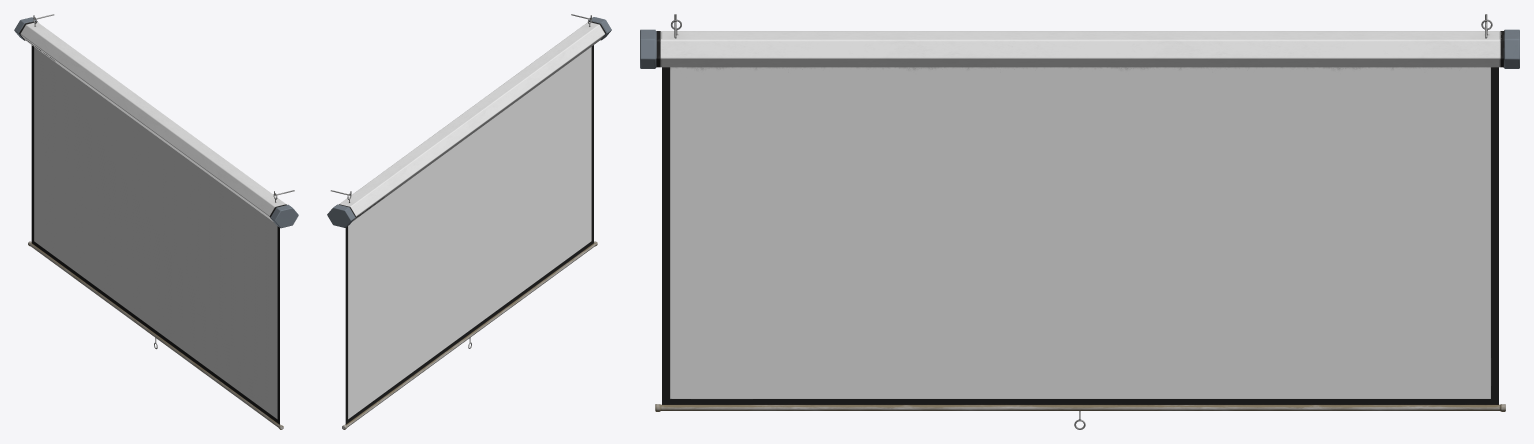
Rendered from projector_screen_7mb.glb.
The picture shows the model from 3 angles, left to right: view 1: azimuth 30°, elevation 25°; view 2: azimuth 150°, elevation 25°; view 3: azimuth 270°, elevation 25°; orthographic projection. The views are drawn at different scales.
Parts seen in each view (by area): view 1: Cylinder_1, Cylinder, Sweep_2_2; view 2: Cylinder_1, Cylinder, Sweep_2_2; view 3: Cylinder_1, Cylinder, Sweep_2_2.
Part boxes in pixels (x1,y1,x2,y2): Cylinder_1: (31, 45, 279, 424); Cylinder: (14, 17, 298, 228); Sweep_2_2: (28, 241, 283, 429); Cylinder_1: (345, 45, 593, 424); Cylinder: (327, 17, 611, 227); Sweep_2_2: (342, 241, 597, 429); Cylinder_1: (662, 67, 1498, 404); Cylinder: (640, 29, 1519, 68); Sweep_2_2: (655, 404, 1505, 411).
Size of the model in its own units: 0.5374 by 4.19 by 8.06.
Materials: 1 (1 with a texture image).
